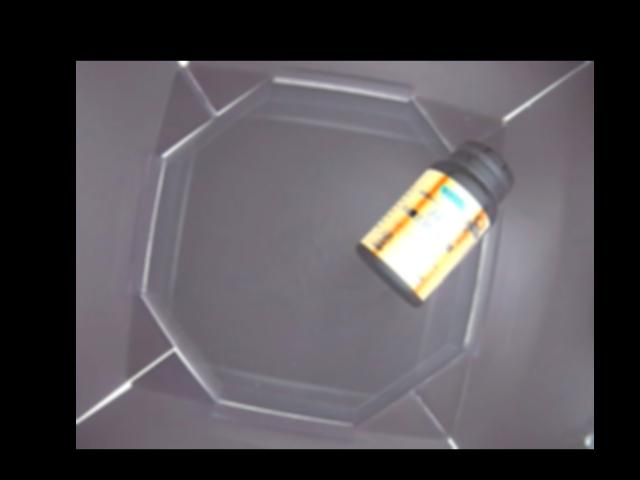Bottle: (356, 141, 514, 307)
